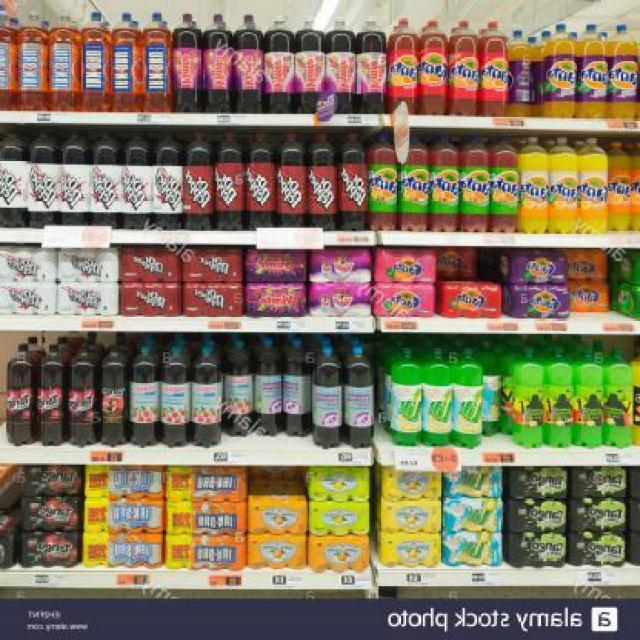Drinks: (89, 130, 121, 230), (121, 131, 153, 229), (151, 132, 183, 230), (245, 132, 277, 230), (398, 134, 430, 232), (27, 129, 58, 229), (215, 132, 246, 232), (544, 23, 576, 119), (429, 134, 460, 232), (183, 132, 214, 230), (306, 133, 337, 231), (337, 133, 368, 231), (368, 132, 399, 230), (459, 136, 490, 233), (519, 136, 550, 233), (578, 138, 609, 235), (59, 128, 90, 225), (418, 20, 449, 116), (449, 20, 480, 116), (276, 132, 307, 228), (576, 25, 607, 119), (608, 25, 639, 119), (490, 136, 519, 233), (549, 138, 578, 234), (388, 19, 417, 115), (480, 21, 509, 117), (0, 129, 28, 226), (436, 278, 502, 318), (497, 248, 568, 285), (502, 285, 570, 319), (372, 248, 436, 284), (120, 247, 183, 283), (58, 281, 120, 317), (182, 281, 244, 317), (120, 282, 183, 316), (181, 248, 244, 282), (57, 248, 119, 282), (373, 284, 435, 318), (509, 31, 533, 117), (1, 281, 58, 317), (0, 245, 57, 281), (609, 142, 632, 231), (555, 248, 607, 282), (565, 280, 609, 312), (435, 248, 477, 279), (608, 248, 639, 286), (610, 282, 639, 320)
